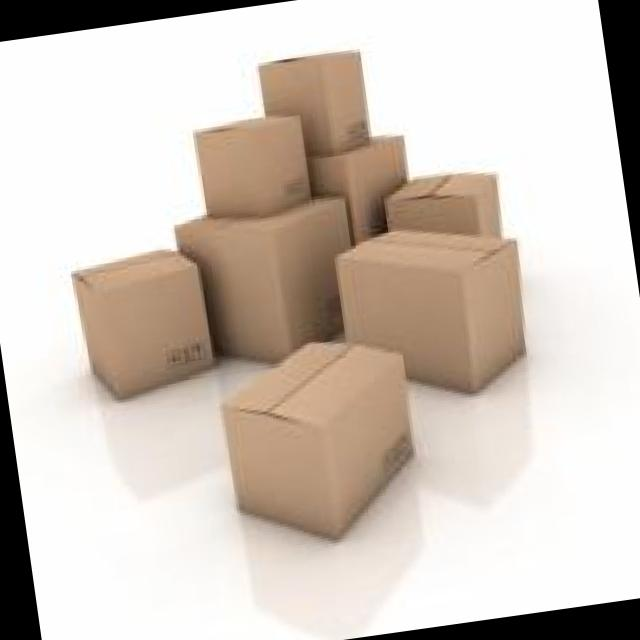box: (221, 341, 419, 542), (335, 230, 528, 397), (172, 194, 357, 365), (69, 250, 214, 402), (303, 134, 410, 253), (254, 48, 370, 157), (190, 116, 313, 217), (382, 171, 505, 243)
